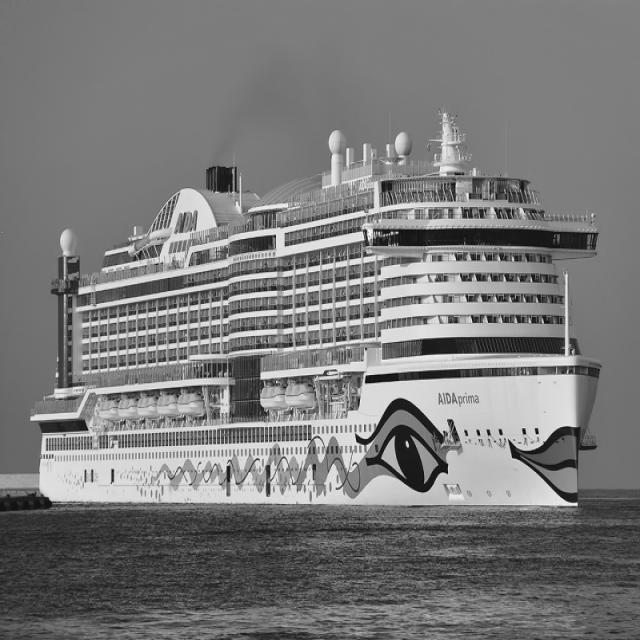cruises: (29, 110, 608, 521)
